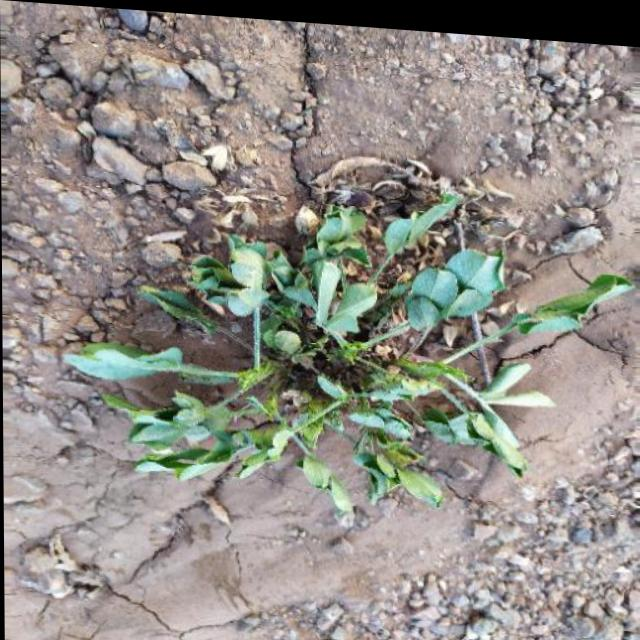weed: (90, 185, 586, 516)
